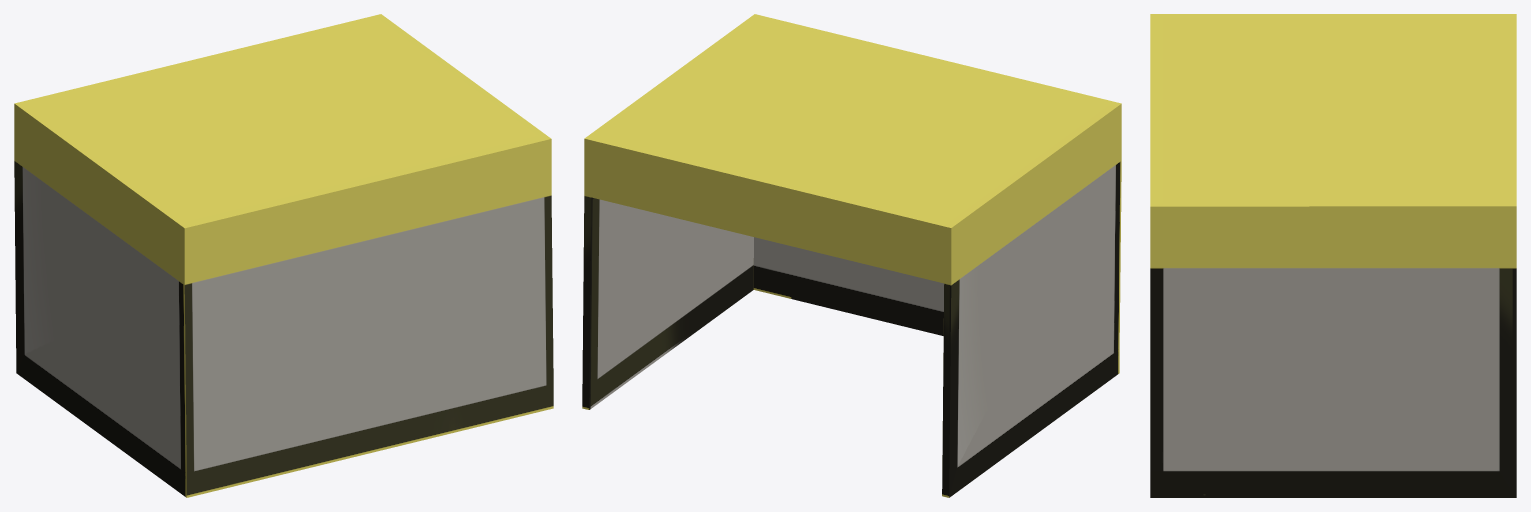
File: table.fbx
3 views of the same model, side by side, from view 1: azimuth 30°, elevation 25°; view 2: azimuth 150°, elevation 25°; view 3: azimuth 270°, elevation 25° (orthographic). The views are drawn at different scales.
Visible parts, largest first — view 1: Table; view 2: Table; view 3: Table.
Part boxes in pixels (<box>): Table: <box>14,14,553,497</box>; Table: <box>582,14,1121,497</box>; Table: <box>1150,14,1516,497</box>.
Bounding box in the file's own units: 1 × 0.7 × 0.8.
1 material, 1 textured.
